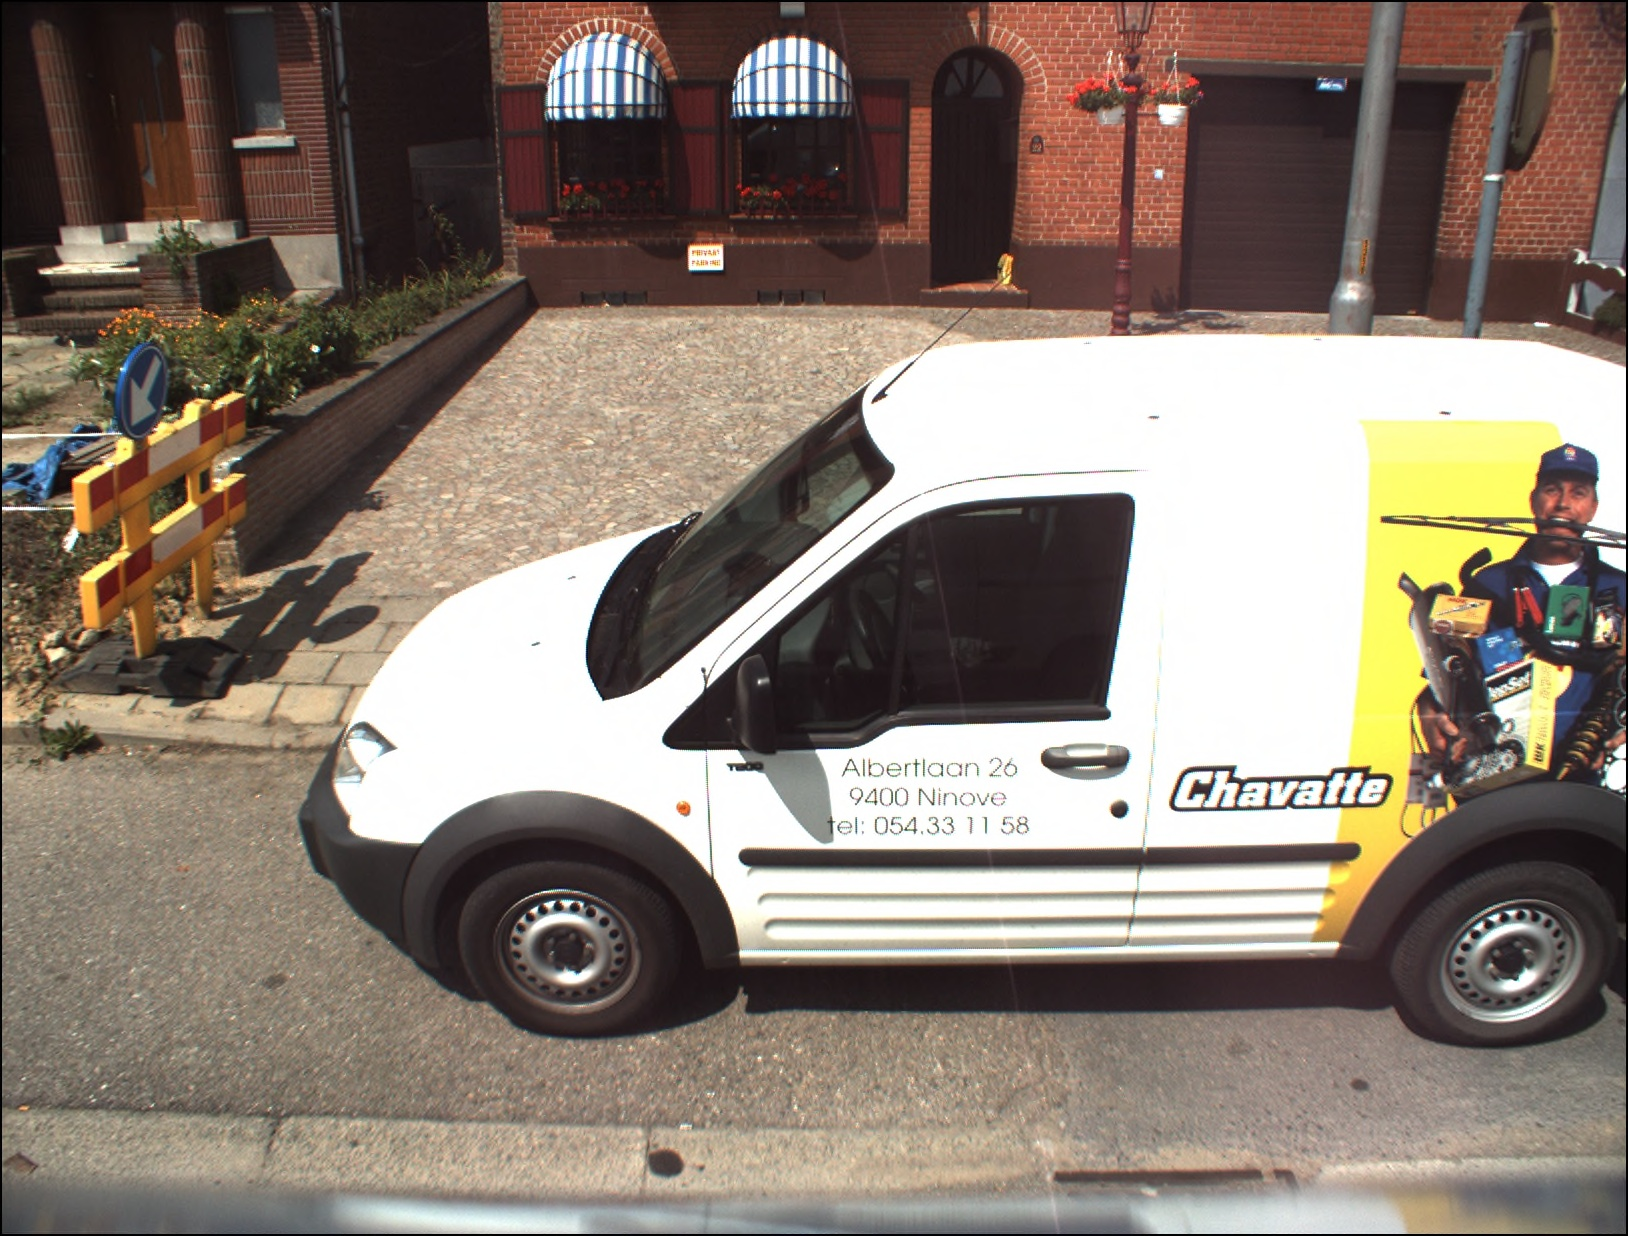passleft: (118, 344, 171, 438)
